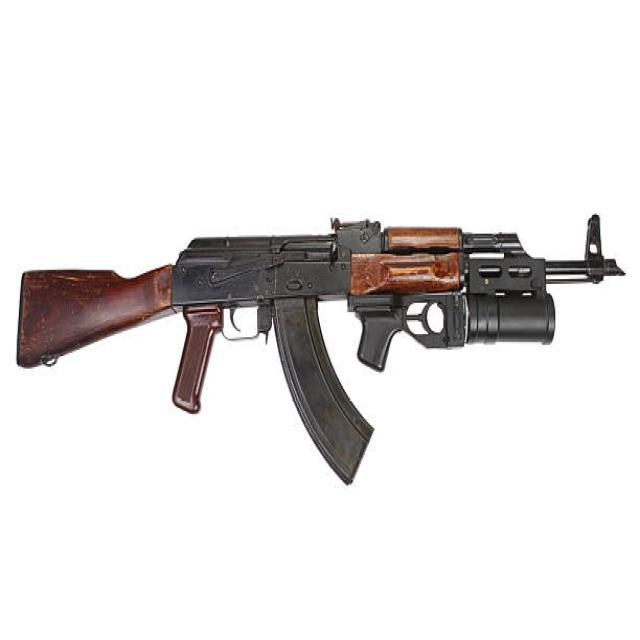rifle: (8, 177, 631, 490)
